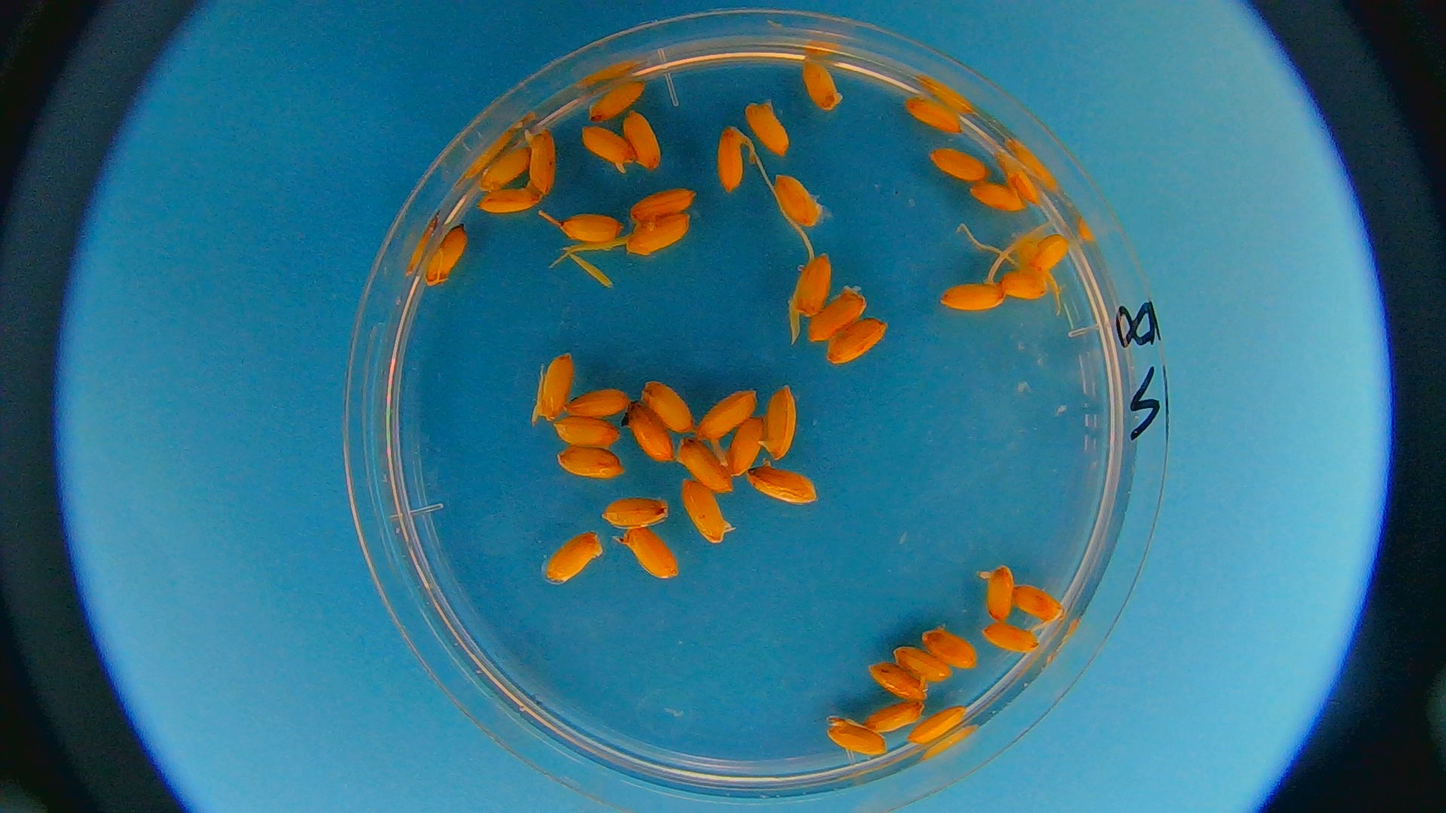no: (679, 476, 736, 548), (807, 285, 869, 345), (612, 527, 681, 579), (542, 531, 605, 584), (746, 459, 819, 504), (676, 436, 733, 493), (991, 145, 1044, 206), (756, 385, 798, 461), (624, 400, 675, 462), (641, 378, 695, 435), (612, 215, 688, 255), (825, 317, 886, 365), (867, 658, 932, 703), (776, 171, 827, 227), (423, 225, 469, 287), (579, 123, 637, 172), (743, 100, 792, 157), (584, 78, 646, 123), (801, 53, 847, 112), (979, 617, 1048, 656), (906, 704, 970, 745), (921, 626, 979, 671), (826, 715, 888, 757), (476, 145, 531, 192), (551, 415, 622, 451), (623, 108, 663, 171), (555, 445, 627, 480), (860, 697, 930, 733), (598, 495, 672, 529), (561, 385, 633, 419), (928, 146, 992, 184), (1008, 584, 1063, 628), (624, 186, 697, 219), (725, 416, 762, 481), (906, 96, 966, 135), (891, 646, 952, 684), (558, 213, 626, 245), (476, 186, 551, 215), (966, 181, 1027, 212)
yes: (695, 388, 758, 464), (533, 352, 575, 423), (1029, 233, 1077, 288), (792, 252, 831, 319), (716, 127, 752, 193), (523, 126, 555, 196), (942, 279, 1009, 312), (976, 562, 1014, 620), (998, 263, 1051, 300)
